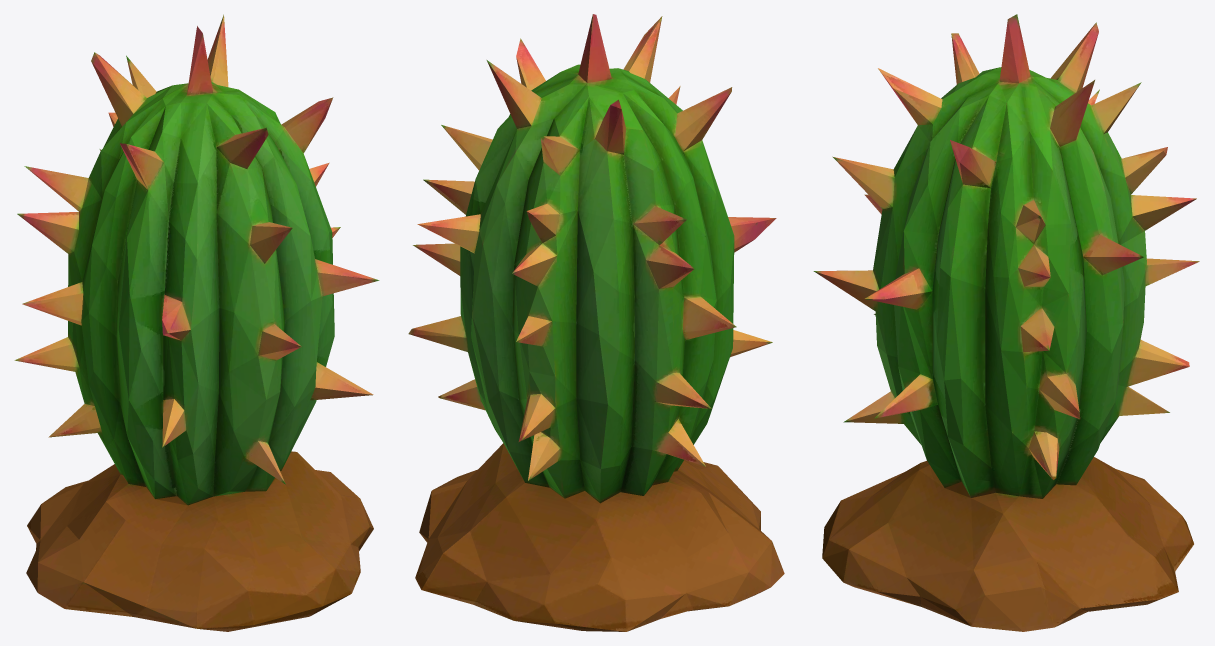
File: cactus_plant_1.glb
The picture shows the model from 3 angles, left to right: view 1: azimuth 30°, elevation 25°; view 2: azimuth 150°, elevation 25°; view 3: azimuth 270°, elevation 25°; orthographic projection. The views are drawn at different scales.
Bounding box in the file's own units: 1.29 × 1.99 × 1.3.
1 material, 1 textured.
